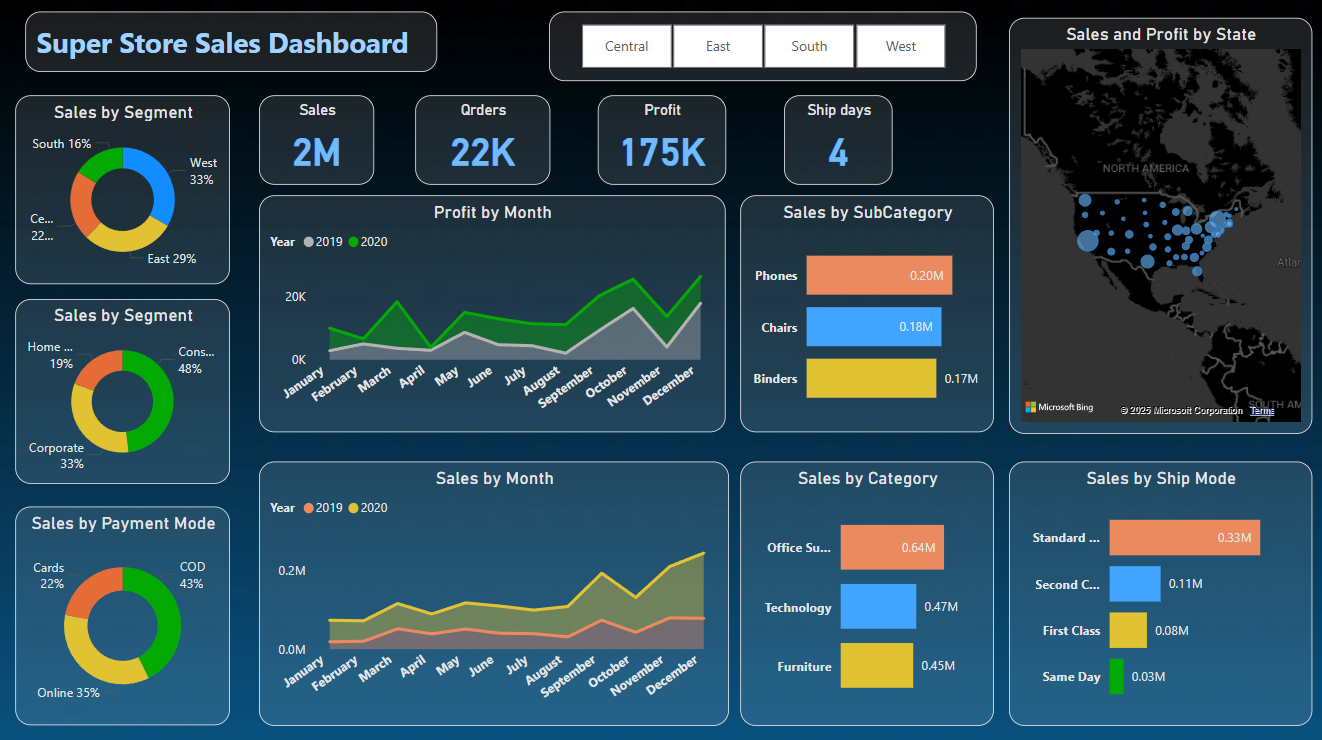

What the dashboard file says about the page in this screenshot:
{"tool":"powerbi","page":{"name":"Dashboard","canvas":[1280,720],"ordinal":0},"visuals":[{"type":"clusteredBarChart","title":"Sales by Category","fields":{"Category":["SuperStore Sales DataSet.Category"],"Y":["Sum(SuperStore Sales DataSet.Sales)"]},"box":[715,446.2,245,255],"z":0},{"type":"clusteredBarChart","title":"Sales by SubCategory","fields":{"Category":["SuperStore Sales DataSet.Sub-Category"],"Y":["Sum(SuperStore Sales DataSet.Sales)"]},"box":[715,190,245,228.8],"z":1000},{"type":"clusteredBarChart","title":"Sales by Ship Mode","fields":{"Category":["SuperStore Sales DataSet.Ship Mode"],"Y":["Sum(SuperStore Sales DataSet.Sales)"]},"box":[975,446.2,292.5,255],"z":2000},{"type":"stackedAreaChart","title":"Sales by Month","fields":{"Y":["Sum(SuperStore Sales DataSet.Sales)"],"Category":["SuperStore Sales DataSet.Order Date.Variation.Date Hierarchy.Month","SuperStore Sales DataSet.Order Date.Variation.Date Hierarchy.Day"],"Series":["SuperStore Sales DataSet.Order Date.Variation.Date Hierarchy.Year"]},"box":[251.2,446.2,453.8,255],"z":3000},{"type":"stackedAreaChart","title":"Profit by Month","fields":{"Category":["SuperStore Sales DataSet.Order Date.Variation.Date Hierarchy.Month","SuperStore Sales DataSet.Order Date.Variation.Date Hierarchy.Day"],"Series":["SuperStore Sales DataSet.Order Date.Variation.Date Hierarchy.Year"],"Y":["Sum(SuperStore Sales DataSet.Profit)"]},"box":[251.2,190,450,228.8],"z":4000},{"type":"map","title":"Sales and Profit by State","fields":{"Category":["SuperStore Sales DataSet.State"],"Size":["Sum(SuperStore Sales DataSet.Sales)"]},"box":[975,17.5,292.5,401.2],"z":5000},{"type":"donutChart","title":"Sales by Segment","fields":{"Category":["SuperStore Sales DataSet.Segment"],"Y":["Sum(SuperStore Sales DataSet.Sales)"]},"box":[16.2,290,207.5,178.8],"z":6000},{"type":"donutChart","title":"Sales by Payment Mode","fields":{"Category":["SuperStore Sales DataSet.Payment Mode"],"Y":["Sum(SuperStore Sales DataSet.Sales)"]},"box":[16.2,490,207.5,211.2],"z":7000},{"type":"slicer","fields":{"Values":["SuperStore Sales DataSet.Region"]},"box":[531.2,12.5,412.5,67.5],"z":8000},{"type":"textbox","box":[25,12.5,397.5,58.8],"z":9000},{"type":"card","title":"Sales","fields":{"Values":["Sum(SuperStore Sales DataSet.Sales)"]},"box":[251.2,92.5,111.2,86.2],"z":10000},{"type":"card","title":"Qrders","fields":{"Values":["Sum(SuperStore Sales DataSet.Quantity)"]},"box":[401.2,92.5,130,86.2],"z":11000},{"type":"card","title":"Profit","fields":{"Values":["Sum(SuperStore Sales DataSet.Profit)"]},"box":[577.5,92.5,123.8,86.2],"z":12000},{"type":"card","title":"Ship days","fields":{"Values":["Avg(SuperStore Sales DataSet.AvgDelivery)"]},"box":[757.5,92.5,105,86.2],"z":13000},{"type":"donutChart","title":"Sales by Segment","fields":{"Category":["SuperStore Sales DataSet.Region"],"Y":["Sum(SuperStore Sales DataSet.Sales)"]},"box":[16.2,92.5,207.5,182.5],"z":14000}]}

Visuals, with their boxes in screenshot pixels (x1, y1, x2, y2), scaled from the page's 1280x720 canvas onto the 1322x740 screenshot:
"Sales by Category" clusteredBarChart: [738, 459, 991, 721]
"Sales by SubCategory" clusteredBarChart: [738, 195, 991, 430]
"Sales by Ship Mode" clusteredBarChart: [1007, 459, 1309, 721]
"Sales by Month" stackedAreaChart: [259, 459, 728, 721]
"Profit by Month" stackedAreaChart: [259, 195, 724, 430]
"Sales and Profit by State" map: [1007, 18, 1309, 430]
"Sales by Segment" donutChart: [17, 298, 231, 482]
"Sales by Payment Mode" donutChart: [17, 504, 231, 721]
slicer - SuperStore Sales DataSet.Region: [549, 13, 975, 82]
textbox: [26, 13, 436, 73]
"Sales" card: [259, 95, 374, 184]
"Qrders" card: [414, 95, 549, 184]
"Profit" card: [596, 95, 724, 184]
"Ship days" card: [782, 95, 891, 184]
"Sales by Segment" donutChart: [17, 95, 231, 283]
